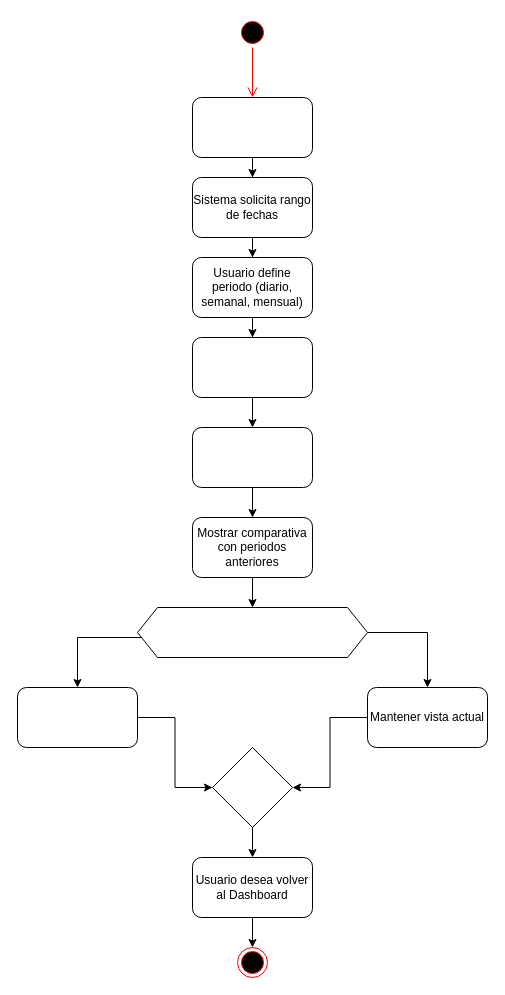
The diagram is 505 pixels wide and 995 high, and some of its shapes have lost their labels. Each missing label, with the centre of its shape:
Genera gráficos de consumo: (252,457)
Sistema consulta base de datos: (252,367)
Usuario selecciona "Historial de consumo": (252,127)
